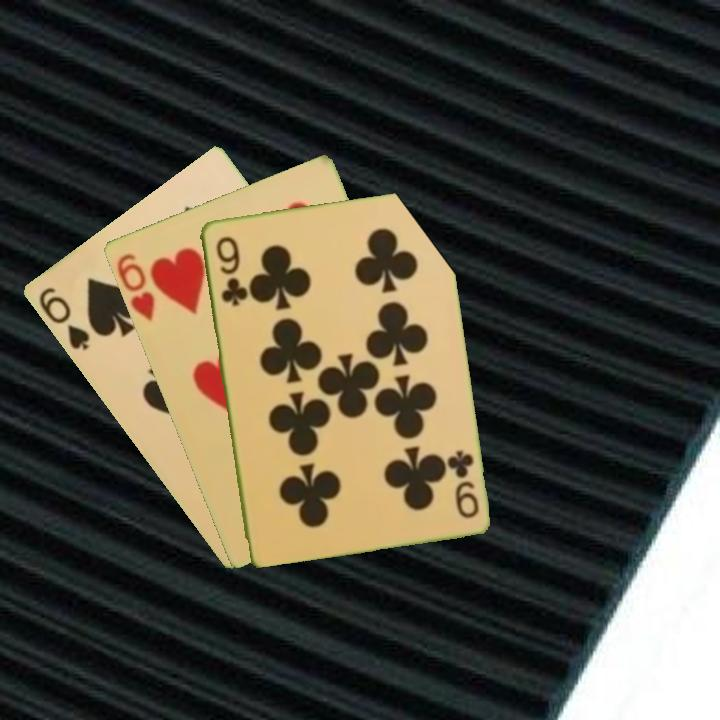6h: (113, 249, 158, 324)
6s: (34, 283, 92, 354)
9c: (443, 447, 481, 521), (212, 232, 247, 309)
